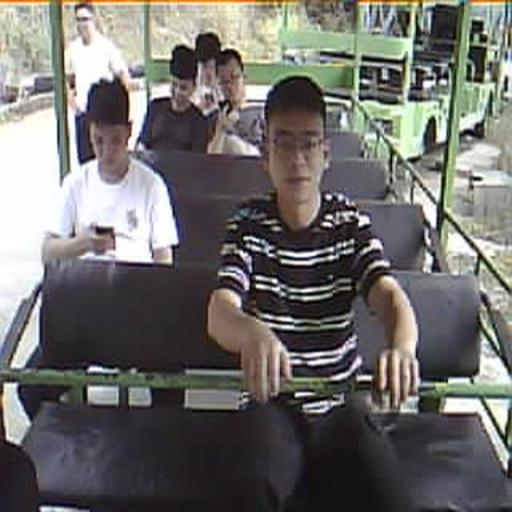persona: (206, 74, 421, 410), (41, 77, 180, 268), (135, 44, 209, 153), (207, 48, 266, 156), (195, 32, 222, 118)
